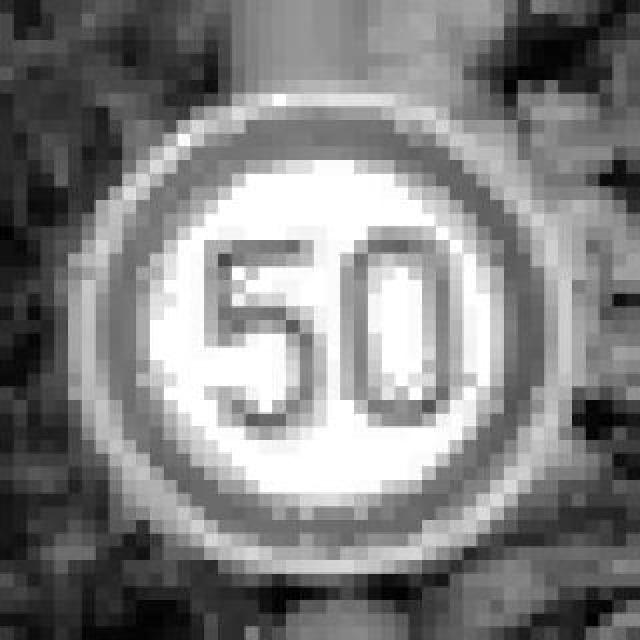50 kph: (68, 68, 572, 560)
